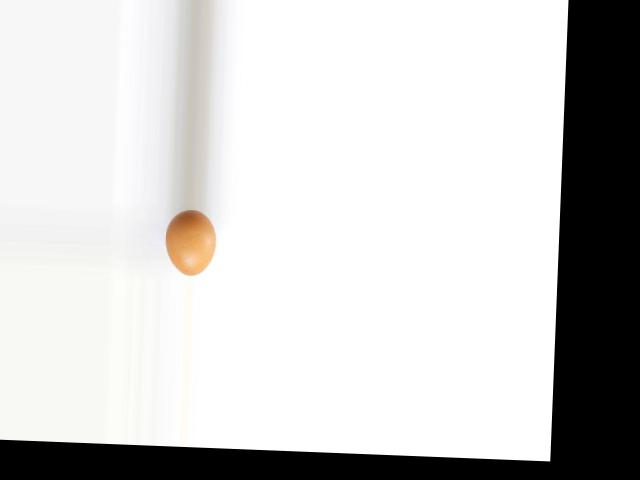egg: (163, 208, 216, 276)
